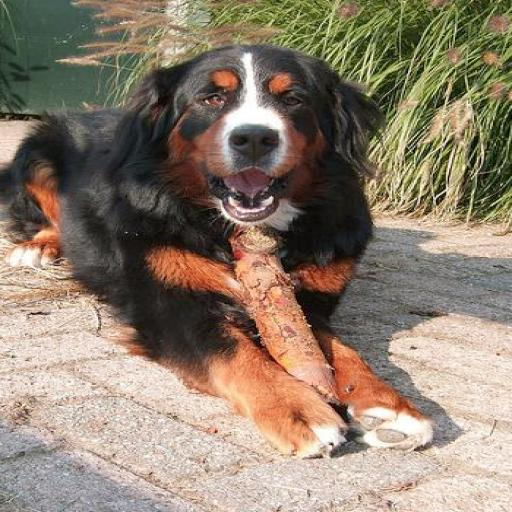dog_face: (153, 44, 363, 211)
